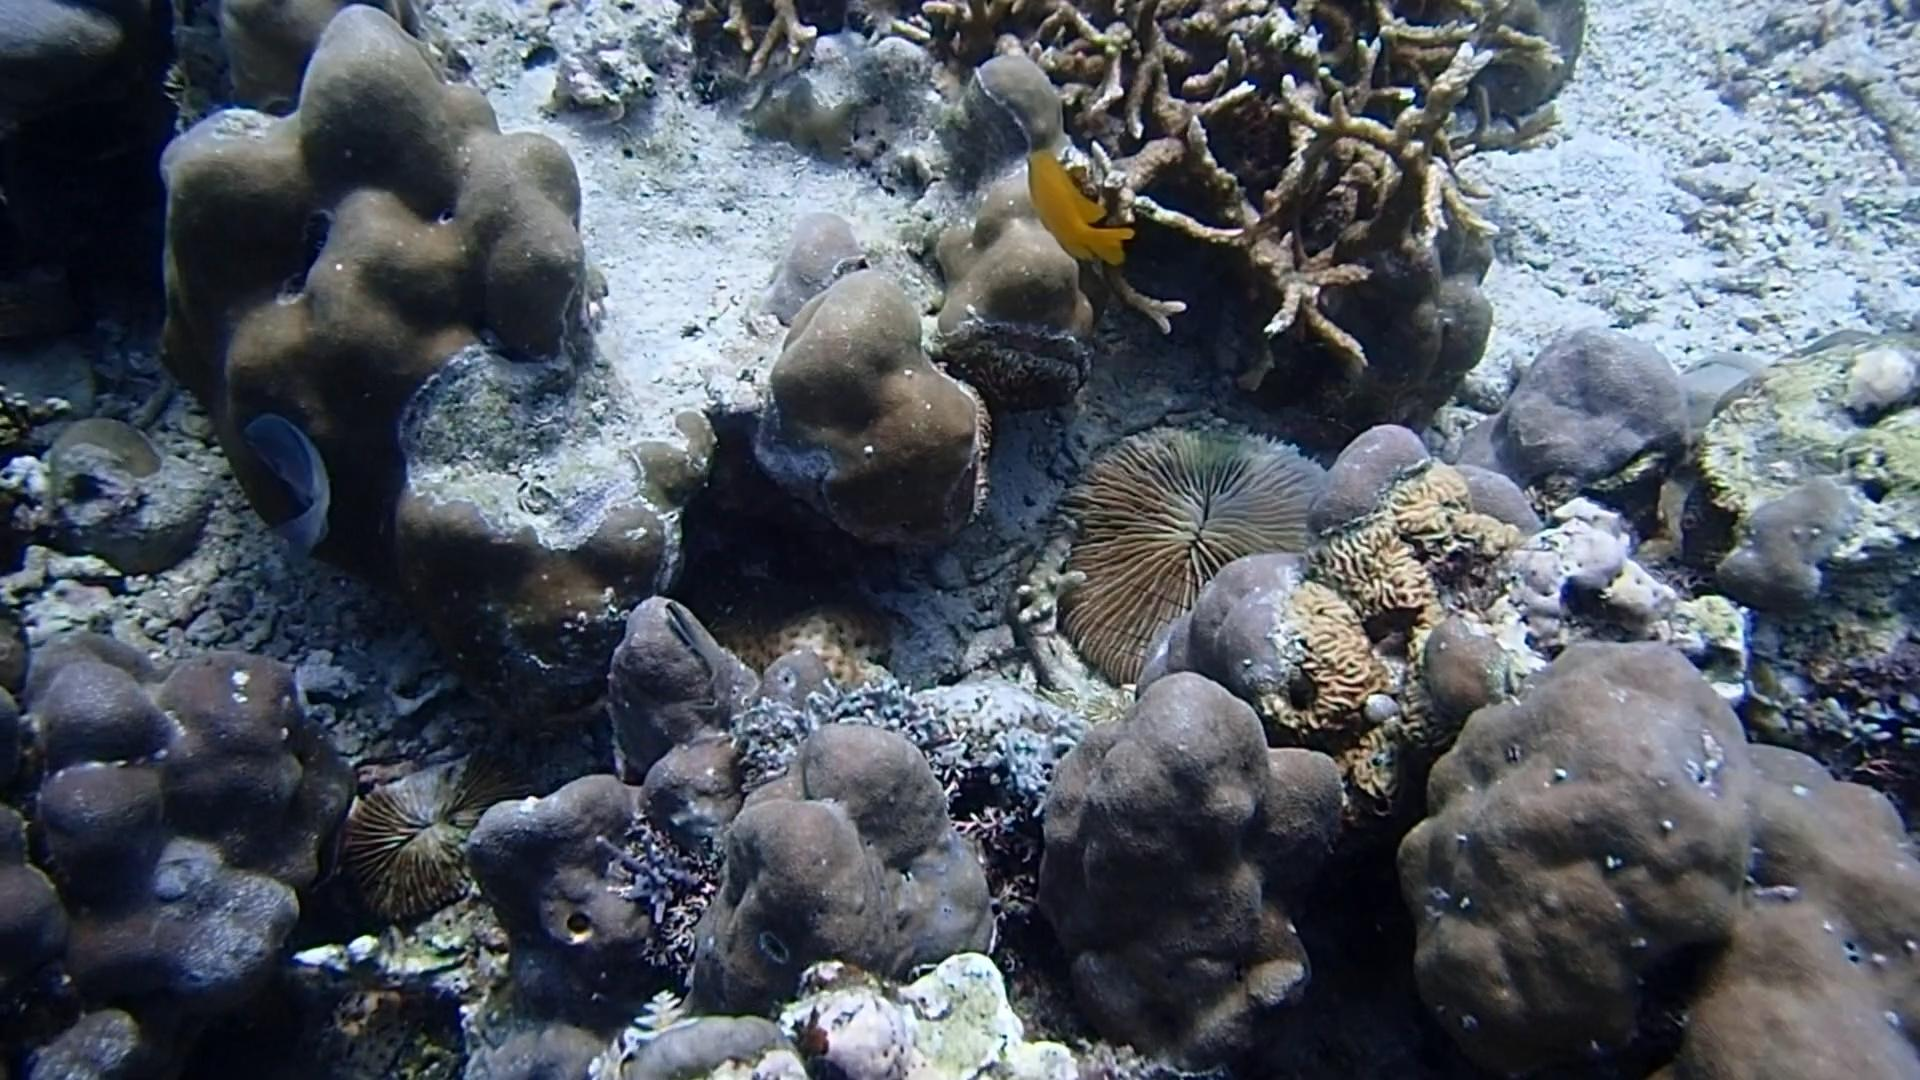Blue Fish Two: (235, 410, 335, 576)
Yellow Fish: (1011, 142, 1147, 280)
